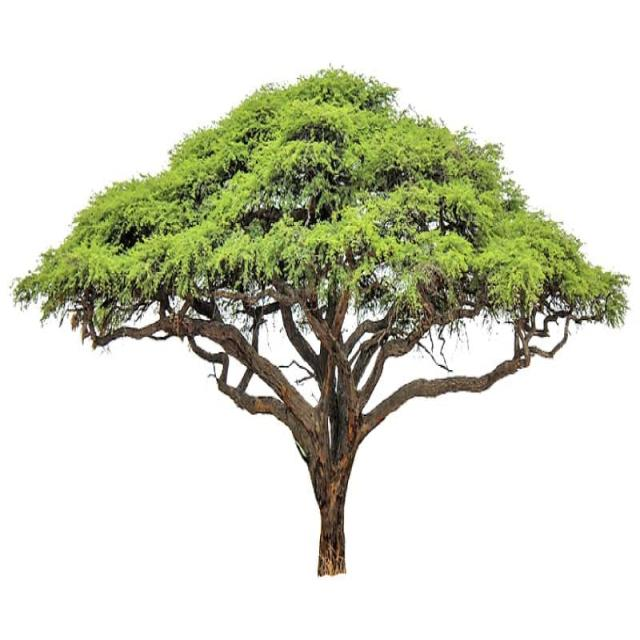Acacia: (26, 29, 615, 563)
